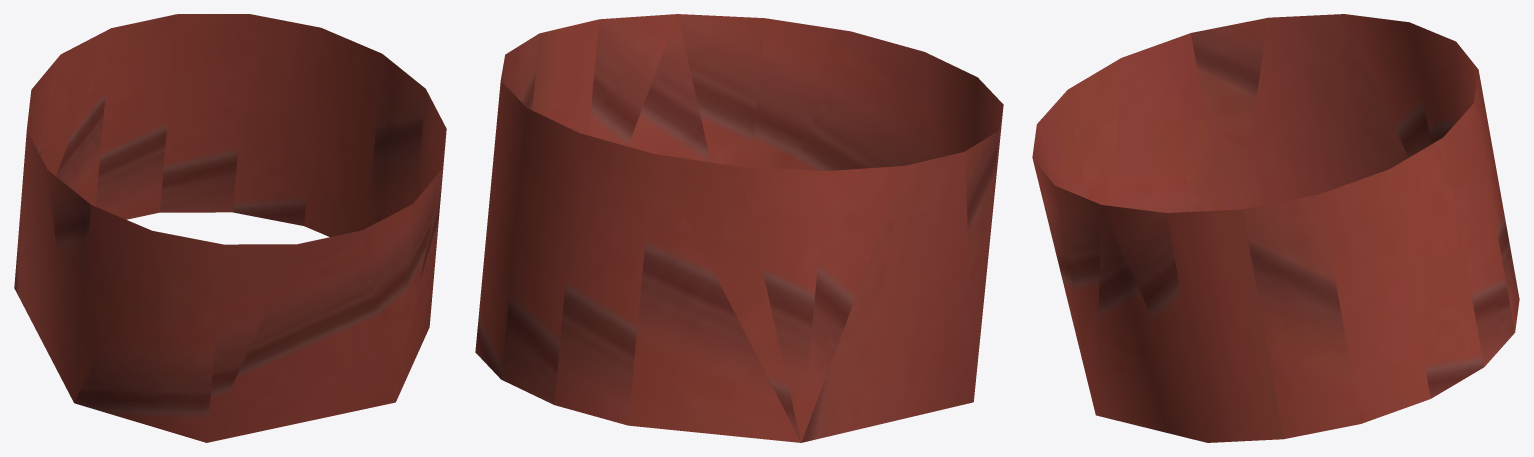
Rendered from original-2.obj.
The picture shows the model from 3 angles, left to right: view 1: azimuth 30°, elevation 25°; view 2: azimuth 150°, elevation 25°; view 3: azimuth 270°, elevation 25°; orthographic projection. The views are drawn at different scales.
Parts seen in each view (by area): view 1: #ID8; view 2: #ID8; view 3: #ID8.
Boxes of the visible parts, <box> form: #ID8: <box>14,14,446,442</box>; #ID8: <box>475,14,1003,442</box>; #ID8: <box>1032,14,1519,442</box>.
Bounding box in the file's own units: 0.0514 × 0.036 × 0.0548.
